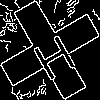H: (25, 25, 80, 83)
